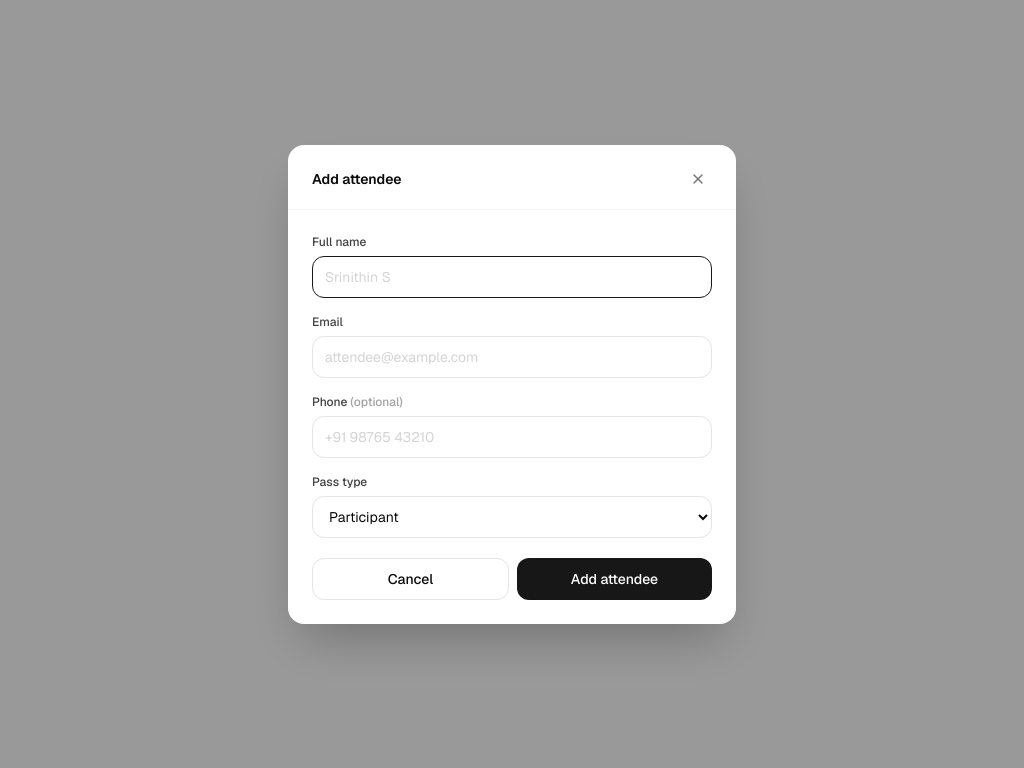
Scenario: AddAttendeeModal › shows server error message when action returns an error
Type "Alice Kumar" into the field with placeholder "Srinithin S".
click(512, 276); type("Alice Kumar")  # box 312,256 -> 712,298
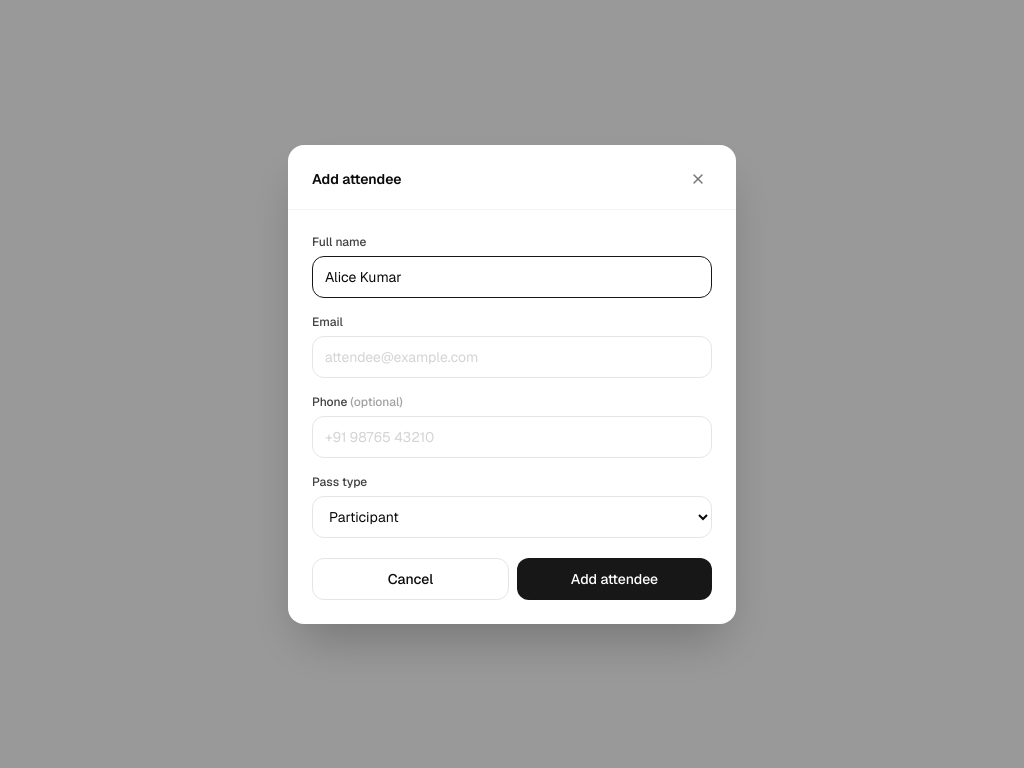
Type "alice@test.com" into the field with placeholder "attendee@example.com".
click(512, 356); type("alice@test.com")  # box 312,336 -> 712,378
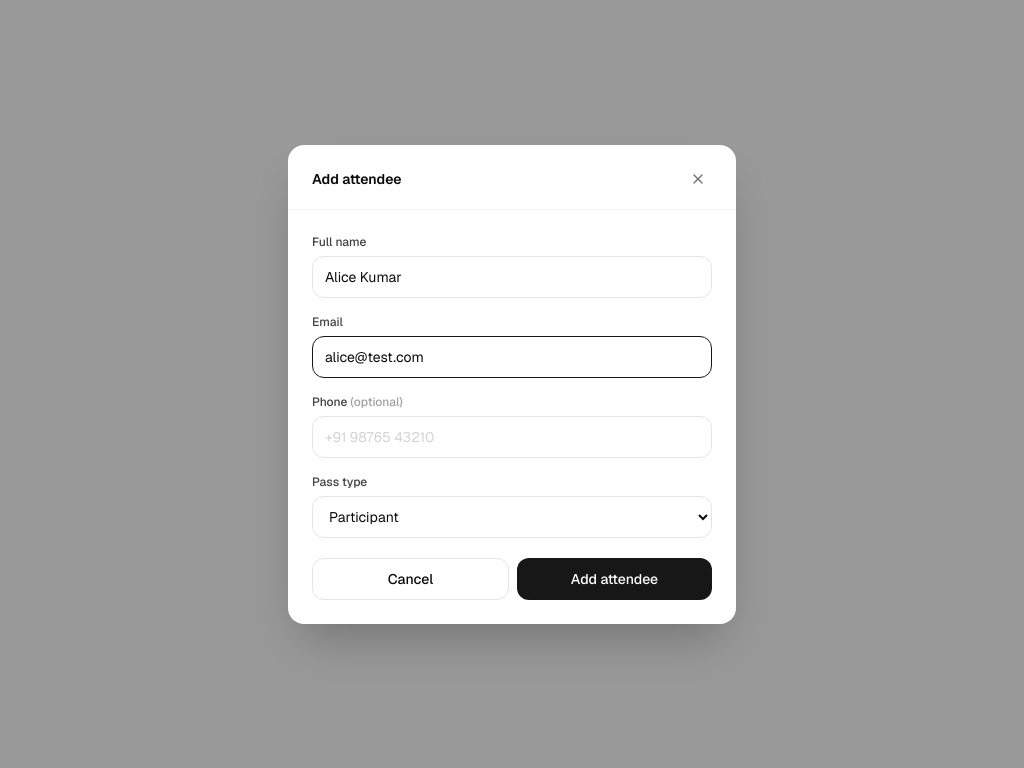
Click the button "Add attendee".
click(614, 578)  # box 517,558 -> 712,600
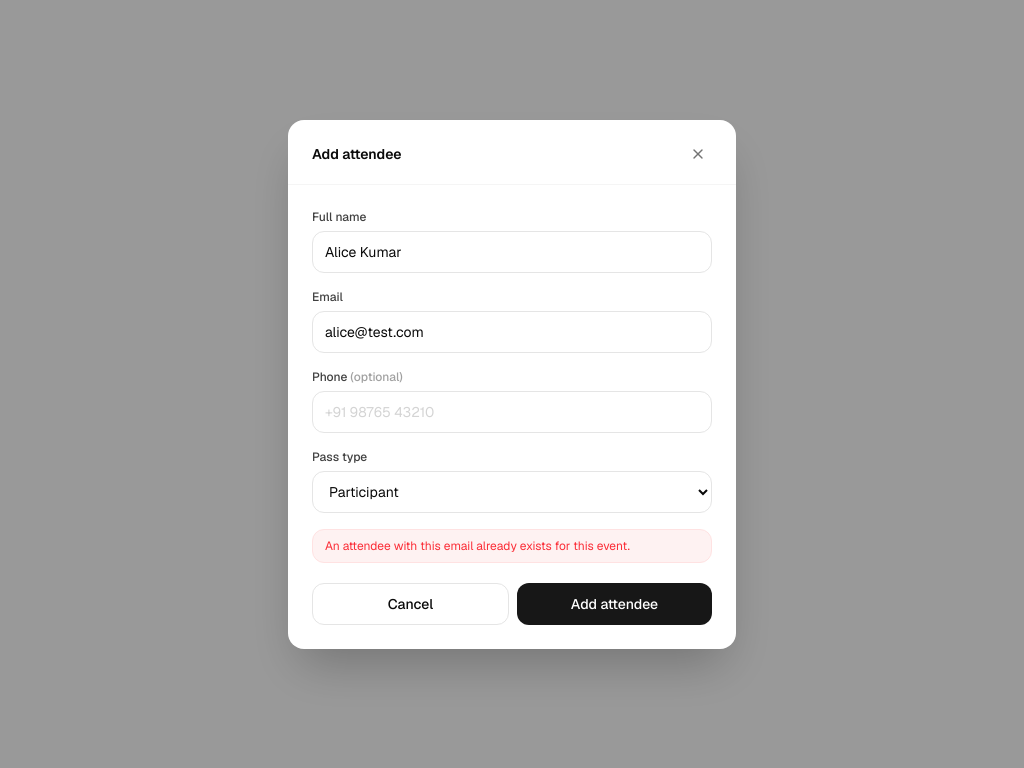
Now the text "An attendee with this email already exists for this event." is shown, box 312,528 -> 712,562
